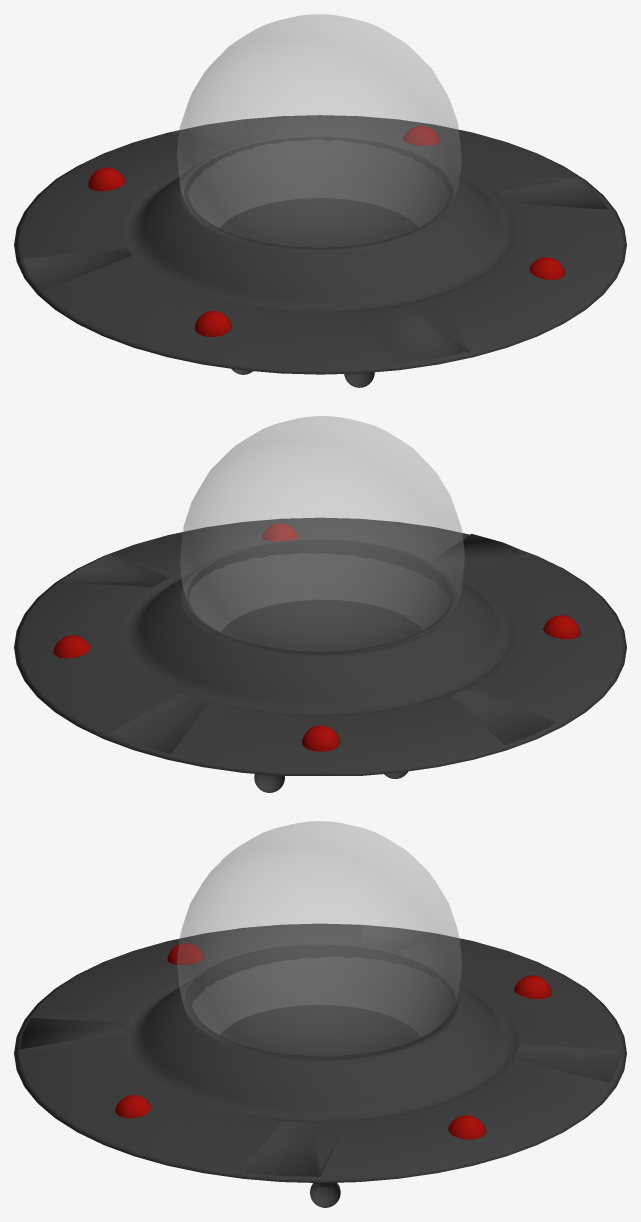
File: nave.obj
3 renders of one model, top to bottom at view 1: azimuth 30°, elevation 25°; view 2: azimuth 150°, elevation 25°; view 3: azimuth 270°, elevation 25°, orthographic.
Parts seen in each view (by area): view 1: Torus, Sphere, Sphere.003, Sphere.002, Sphere.004, Sphere.001; view 2: Torus, Sphere, Sphere.002, Sphere.003, Sphere.001, Sphere.004; view 3: Torus, Sphere, Sphere.001, Sphere.002, Sphere.004, Cube.002_Cube.003, Sphere.003.
Part boxes in pixels (x1,y1,x2,y2): Torus: (14,115,626,374); Sphere: (177,14,461,252); Sphere.003: (194,311,232,336); Sphere.002: (88,167,126,191); Sphere.004: (529,257,565,279); Sphere.001: (403,125,440,145); Torus: (14,517,626,775); Sphere: (180,416,464,652); Sphere.002: (302,725,340,751); Sphere.003: (543,615,580,639); Sphere.001: (53,635,90,658); Sphere.004: (262,523,298,541); Torus: (14,923,626,1182); Sphere: (177,821,461,1058); Sphere.001: (448,1115,486,1139); Sphere.002: (514,975,551,999); Sphere.004: (115,1095,151,1118); Cube.002_Cube.003: (310,1182,340,1207); Sphere.003: (167,943,204,964).
Bounding box in the file's own units: 14.66 × 8.79 × 14.66.
